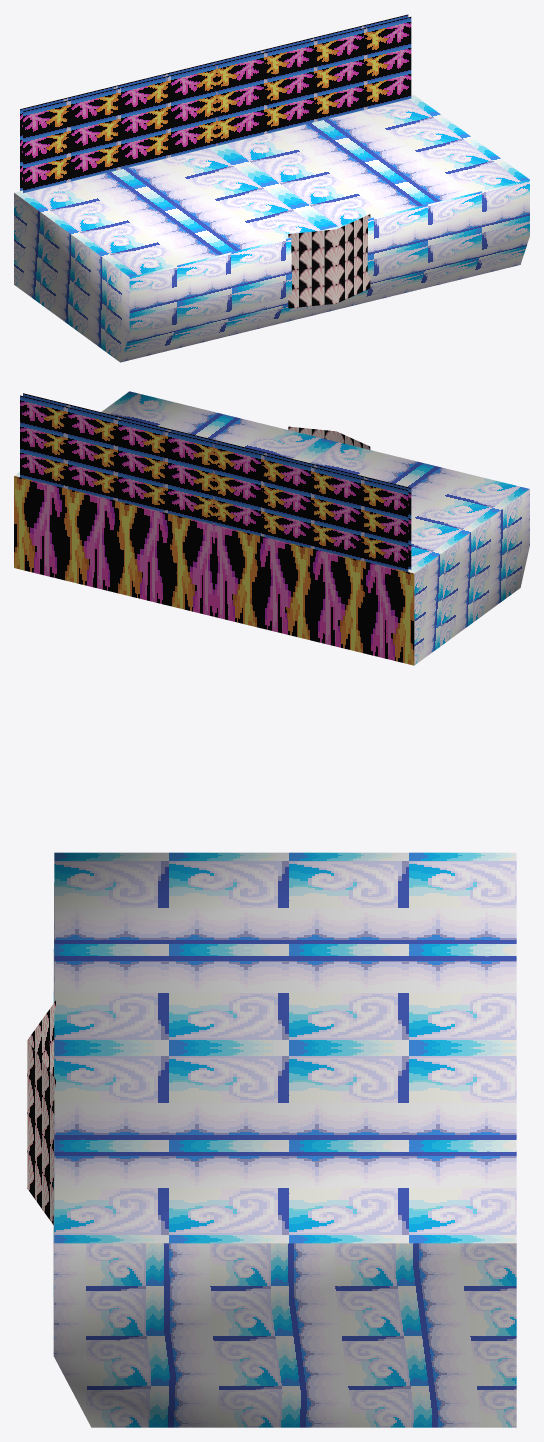
The model's file is 3657kg_case_24.gltf.
3 views of the same model, one above another, from view 1: azimuth 30°, elevation 25°; view 2: azimuth 150°, elevation 25°; view 3: azimuth 270°, elevation 25° (orthographic). The views are drawn at different scales.
Visible parts, largest first — view 1: 3657kg_case_24; view 2: 3657kg_case_24; view 3: 3657kg_case_24.
Part boxes in pixels (bbox=[...]): 3657kg_case_24: bbox=[14, 14, 529, 362]; 3657kg_case_24: bbox=[14, 391, 529, 665]; 3657kg_case_24: bbox=[27, 852, 516, 1427].
Size of the model in its own units: 2 by 0.8311 by 1.06.
Materials: 3 (3 with a texture image).
